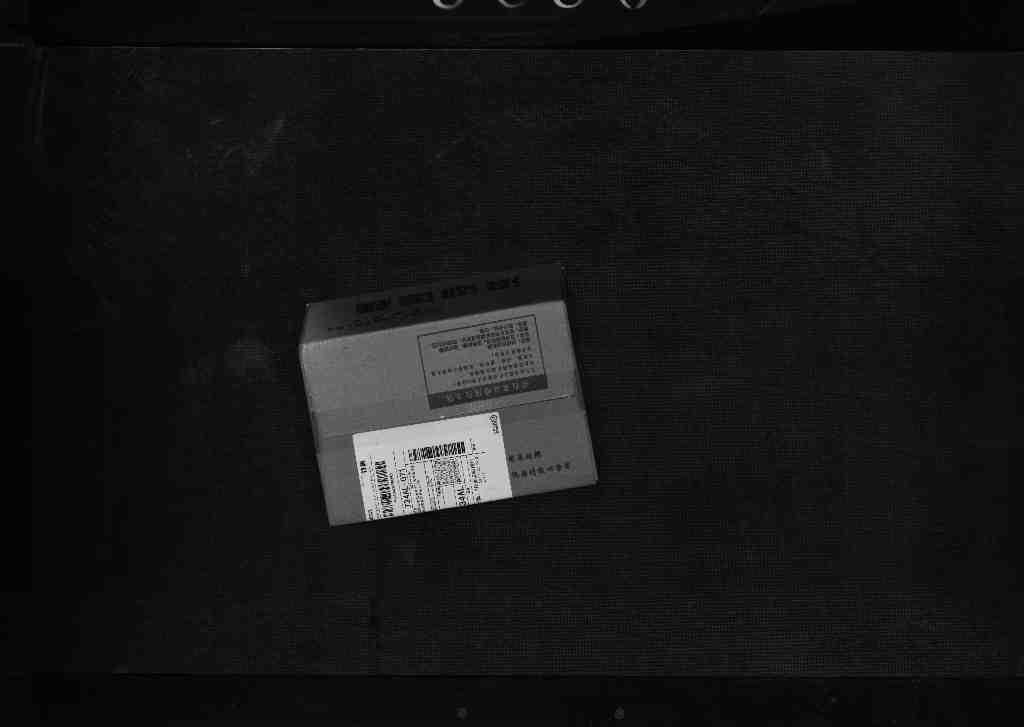box: (288, 282, 607, 514)
